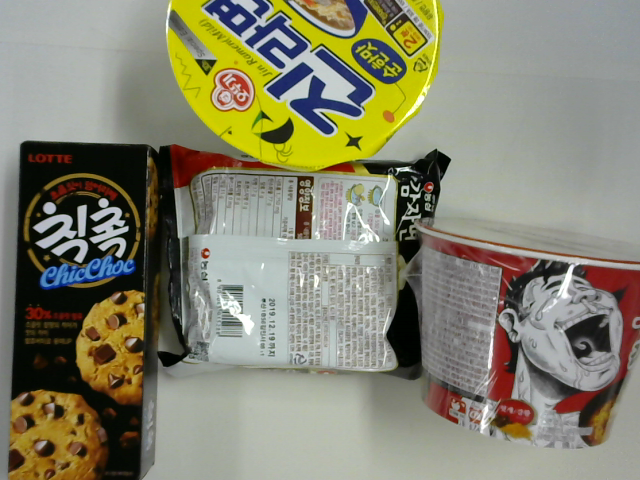Chicchok_Original_2400: (7, 143, 163, 480)
Hejangpul: (414, 213, 640, 452)
Jinlamyeon_Mild_Taste_Large_Cup: (166, 1, 442, 171)
Potato: (157, 150, 449, 382)
